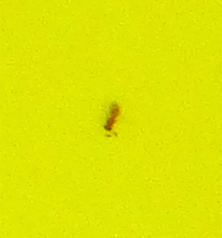Hymenoptera: (100, 100, 122, 138)
